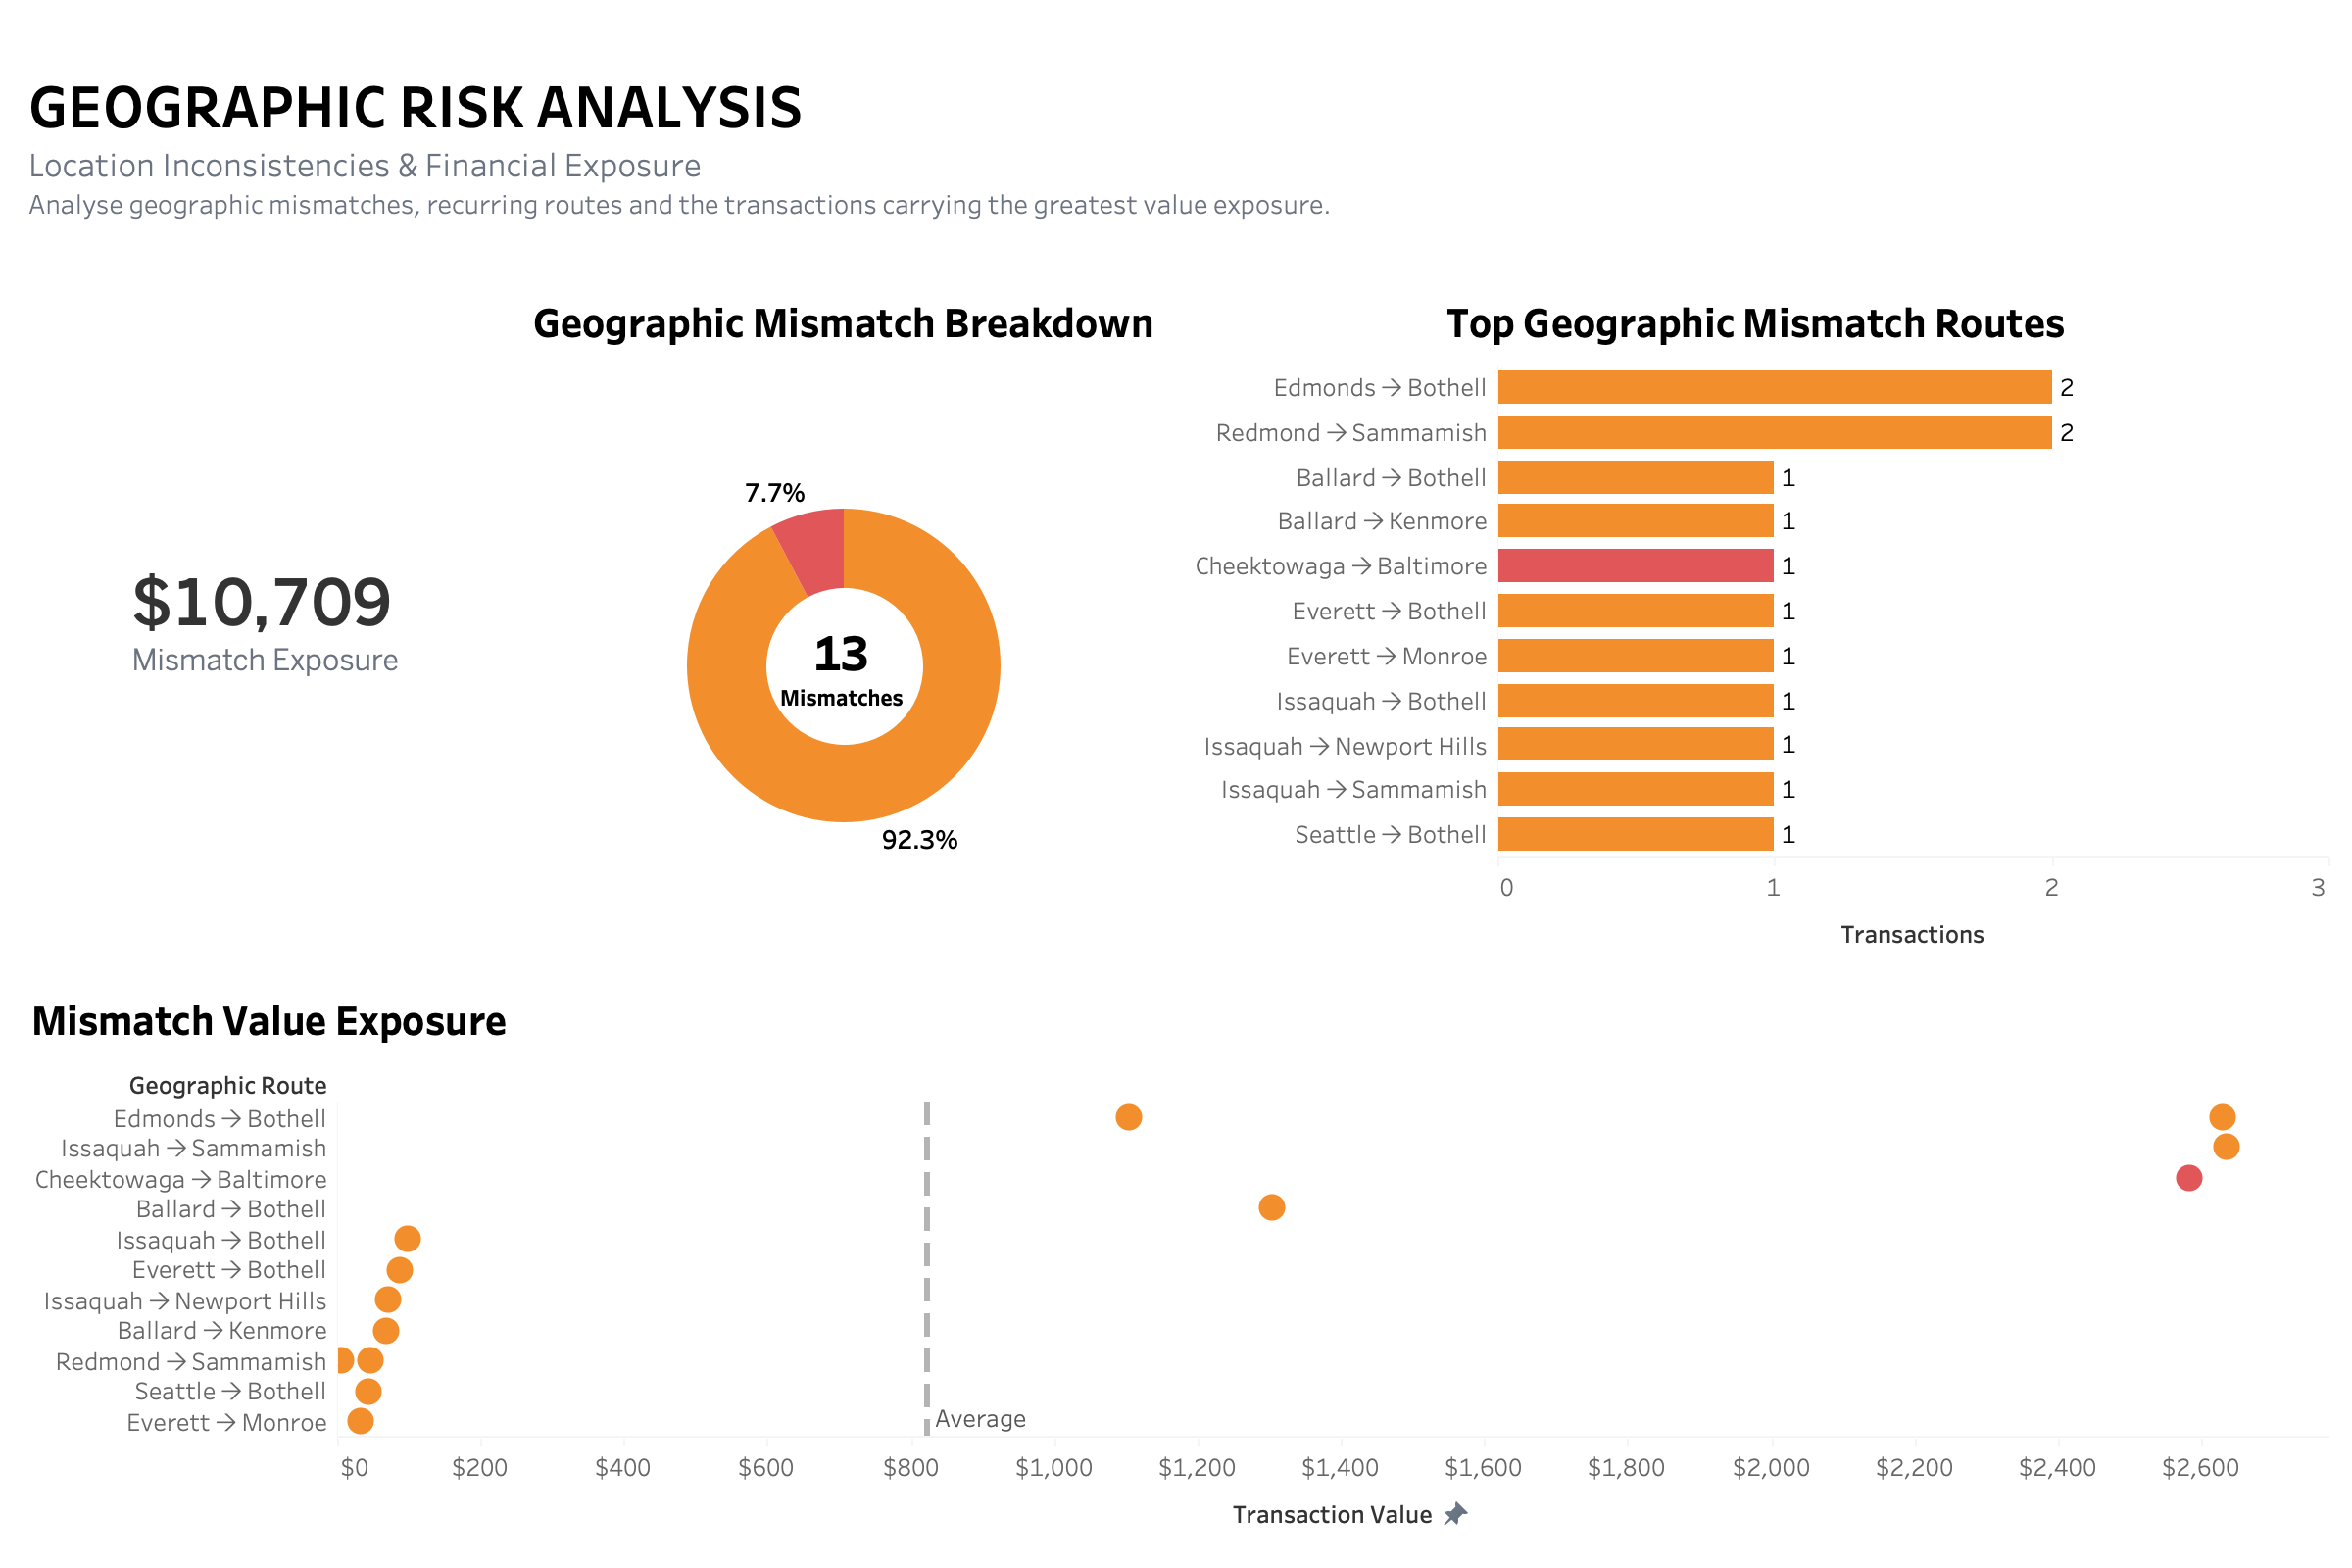

What the dashboard file says about the page in this screenshot:
{"tool":"tableau","page":{"name":"GEOGRAPHIC RISK ANALYSIS","canvas":[1200,800],"ordinal":2},"visuals":[{"type":"text","box":[8,8,1184,95]},{"type":"worksheet","title":"KPI - Geographic Mismatch Exposure","mark":"Automatic","box":[8,103,253,360]},{"type":"worksheet","title":"Chart - Geographic Mismatch Breakdown","mark":"Pie","cols":["Calculation_200058372417515524","Calculation_200058372417515524"],"box":[261,103,369,360]},{"type":"worksheet","title":"Chart - Top Geographic Mismatch Routes","mark":"Bar","rows":["Calculation_200058372402331651"],"cols":["SalesOrderID"],"box":[630,103,562,360]},{"type":"worksheet","title":"Chart - Geographic Value Exposure","mark":"Circle","rows":["Calculation_200058372402331651"],"cols":["order_value"],"box":[8,463,1184,329]}]}

Visuals, with their boxes in screenshot pixels (x1, y1, x2, y2), scaled from the page's 1200x800 canvas onto the 2352x1568 screenshot:
text: crop(16, 16, 2336, 202)
"KPI - Geographic Mismatch Exposure" worksheet: crop(16, 202, 512, 907)
"Chart - Geographic Mismatch Breakdown" worksheet (Pie marks): crop(512, 202, 1235, 907)
"Chart - Top Geographic Mismatch Routes" worksheet (Bar marks): crop(1235, 202, 2336, 907)
"Chart - Geographic Value Exposure" worksheet (Circle marks): crop(16, 907, 2336, 1552)
